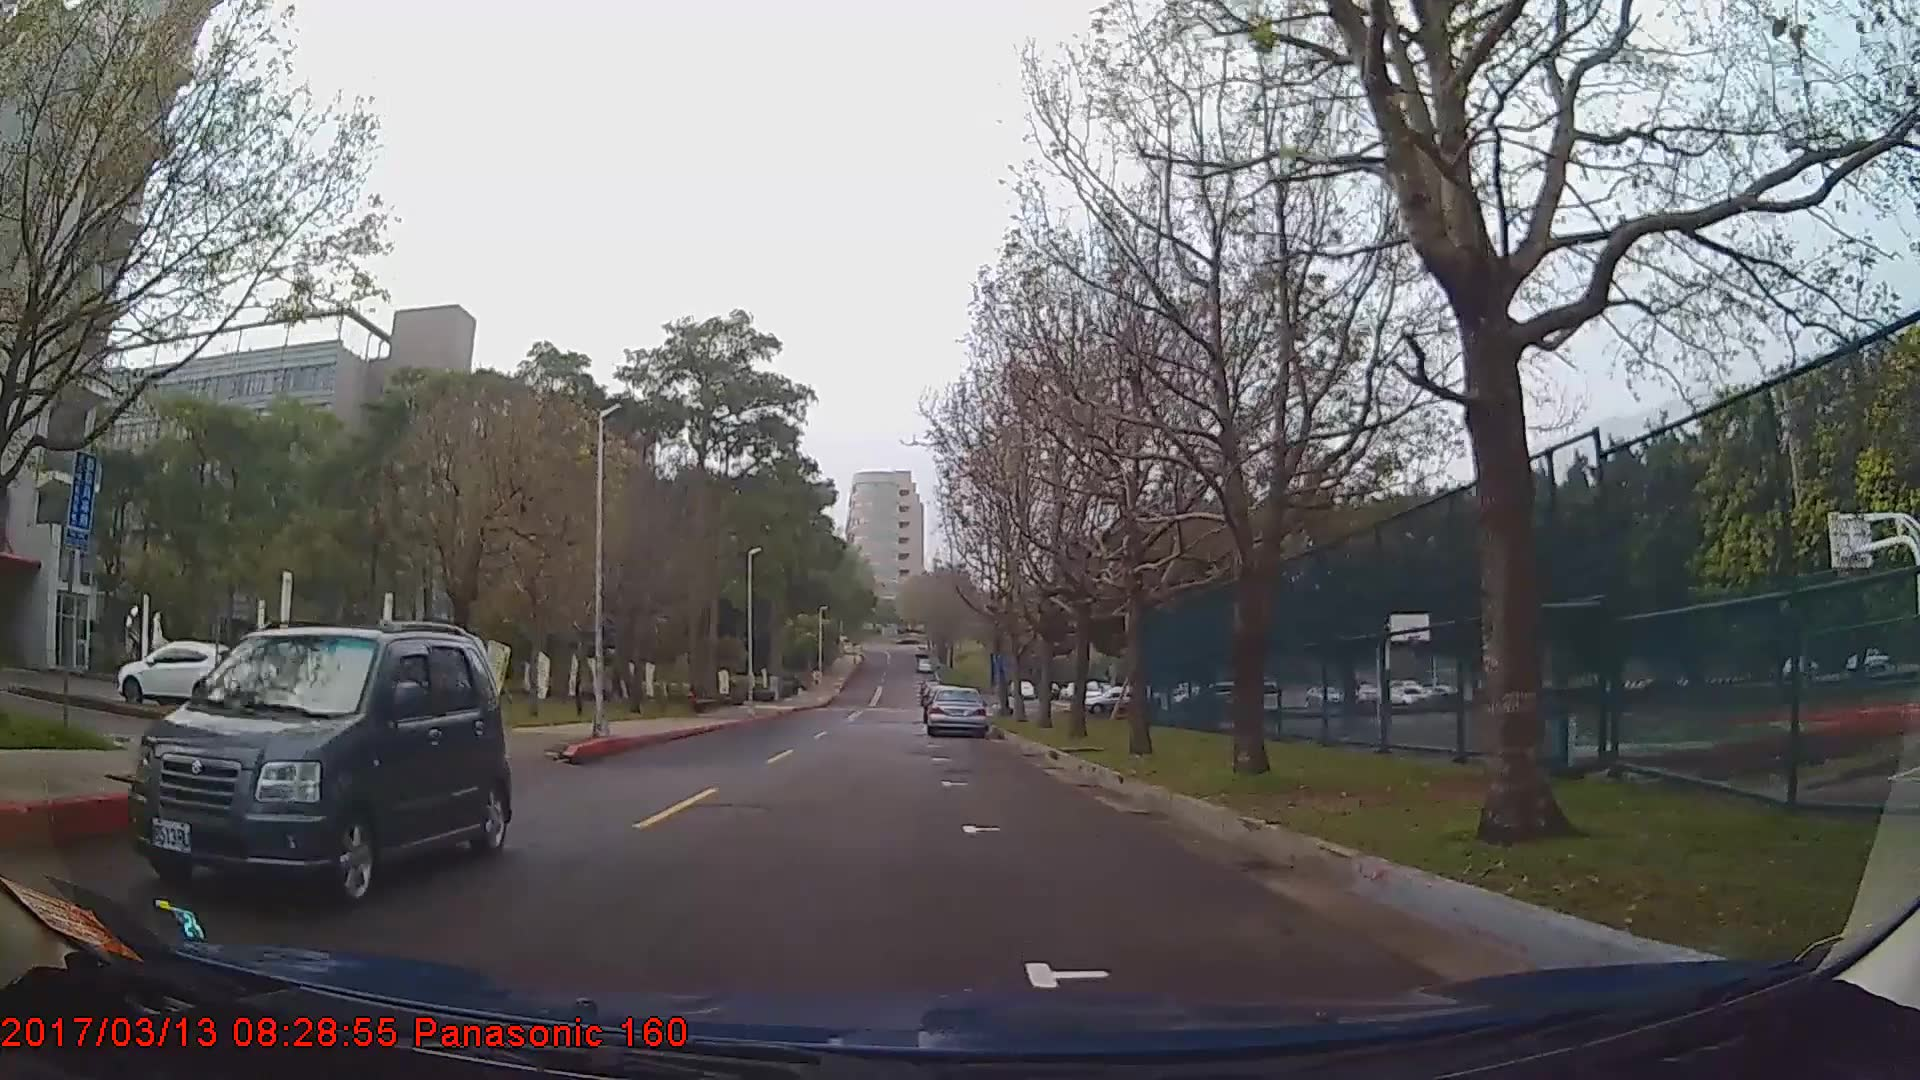vehicle: (124, 626, 510, 907), (115, 640, 253, 704), (924, 686, 988, 740)
